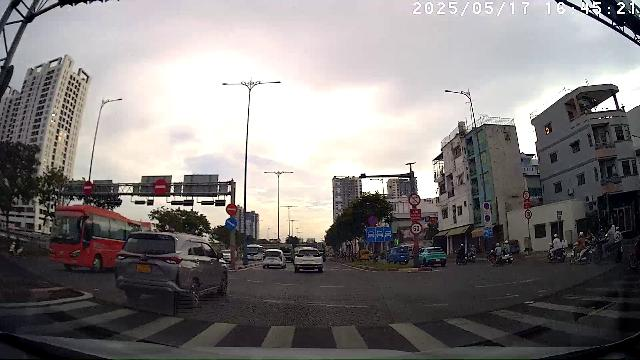102-cam-di-nguoc-chieu: (153, 180, 167, 195), (226, 202, 238, 216), (82, 181, 92, 195)
127-toc-do-toi-da-50: (524, 209, 532, 219)
127-toc-do-toi-da-60: (410, 221, 422, 234)
302a-huong-phai-di-vong-chuong-ngai-vat-1: (225, 218, 238, 230)
